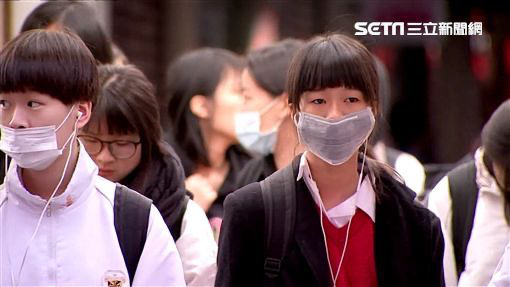mask_weared_incorrect: (1, 95, 76, 172)
with_mask: (297, 91, 376, 169), (231, 85, 278, 159)
without_mask: (76, 128, 142, 185)
